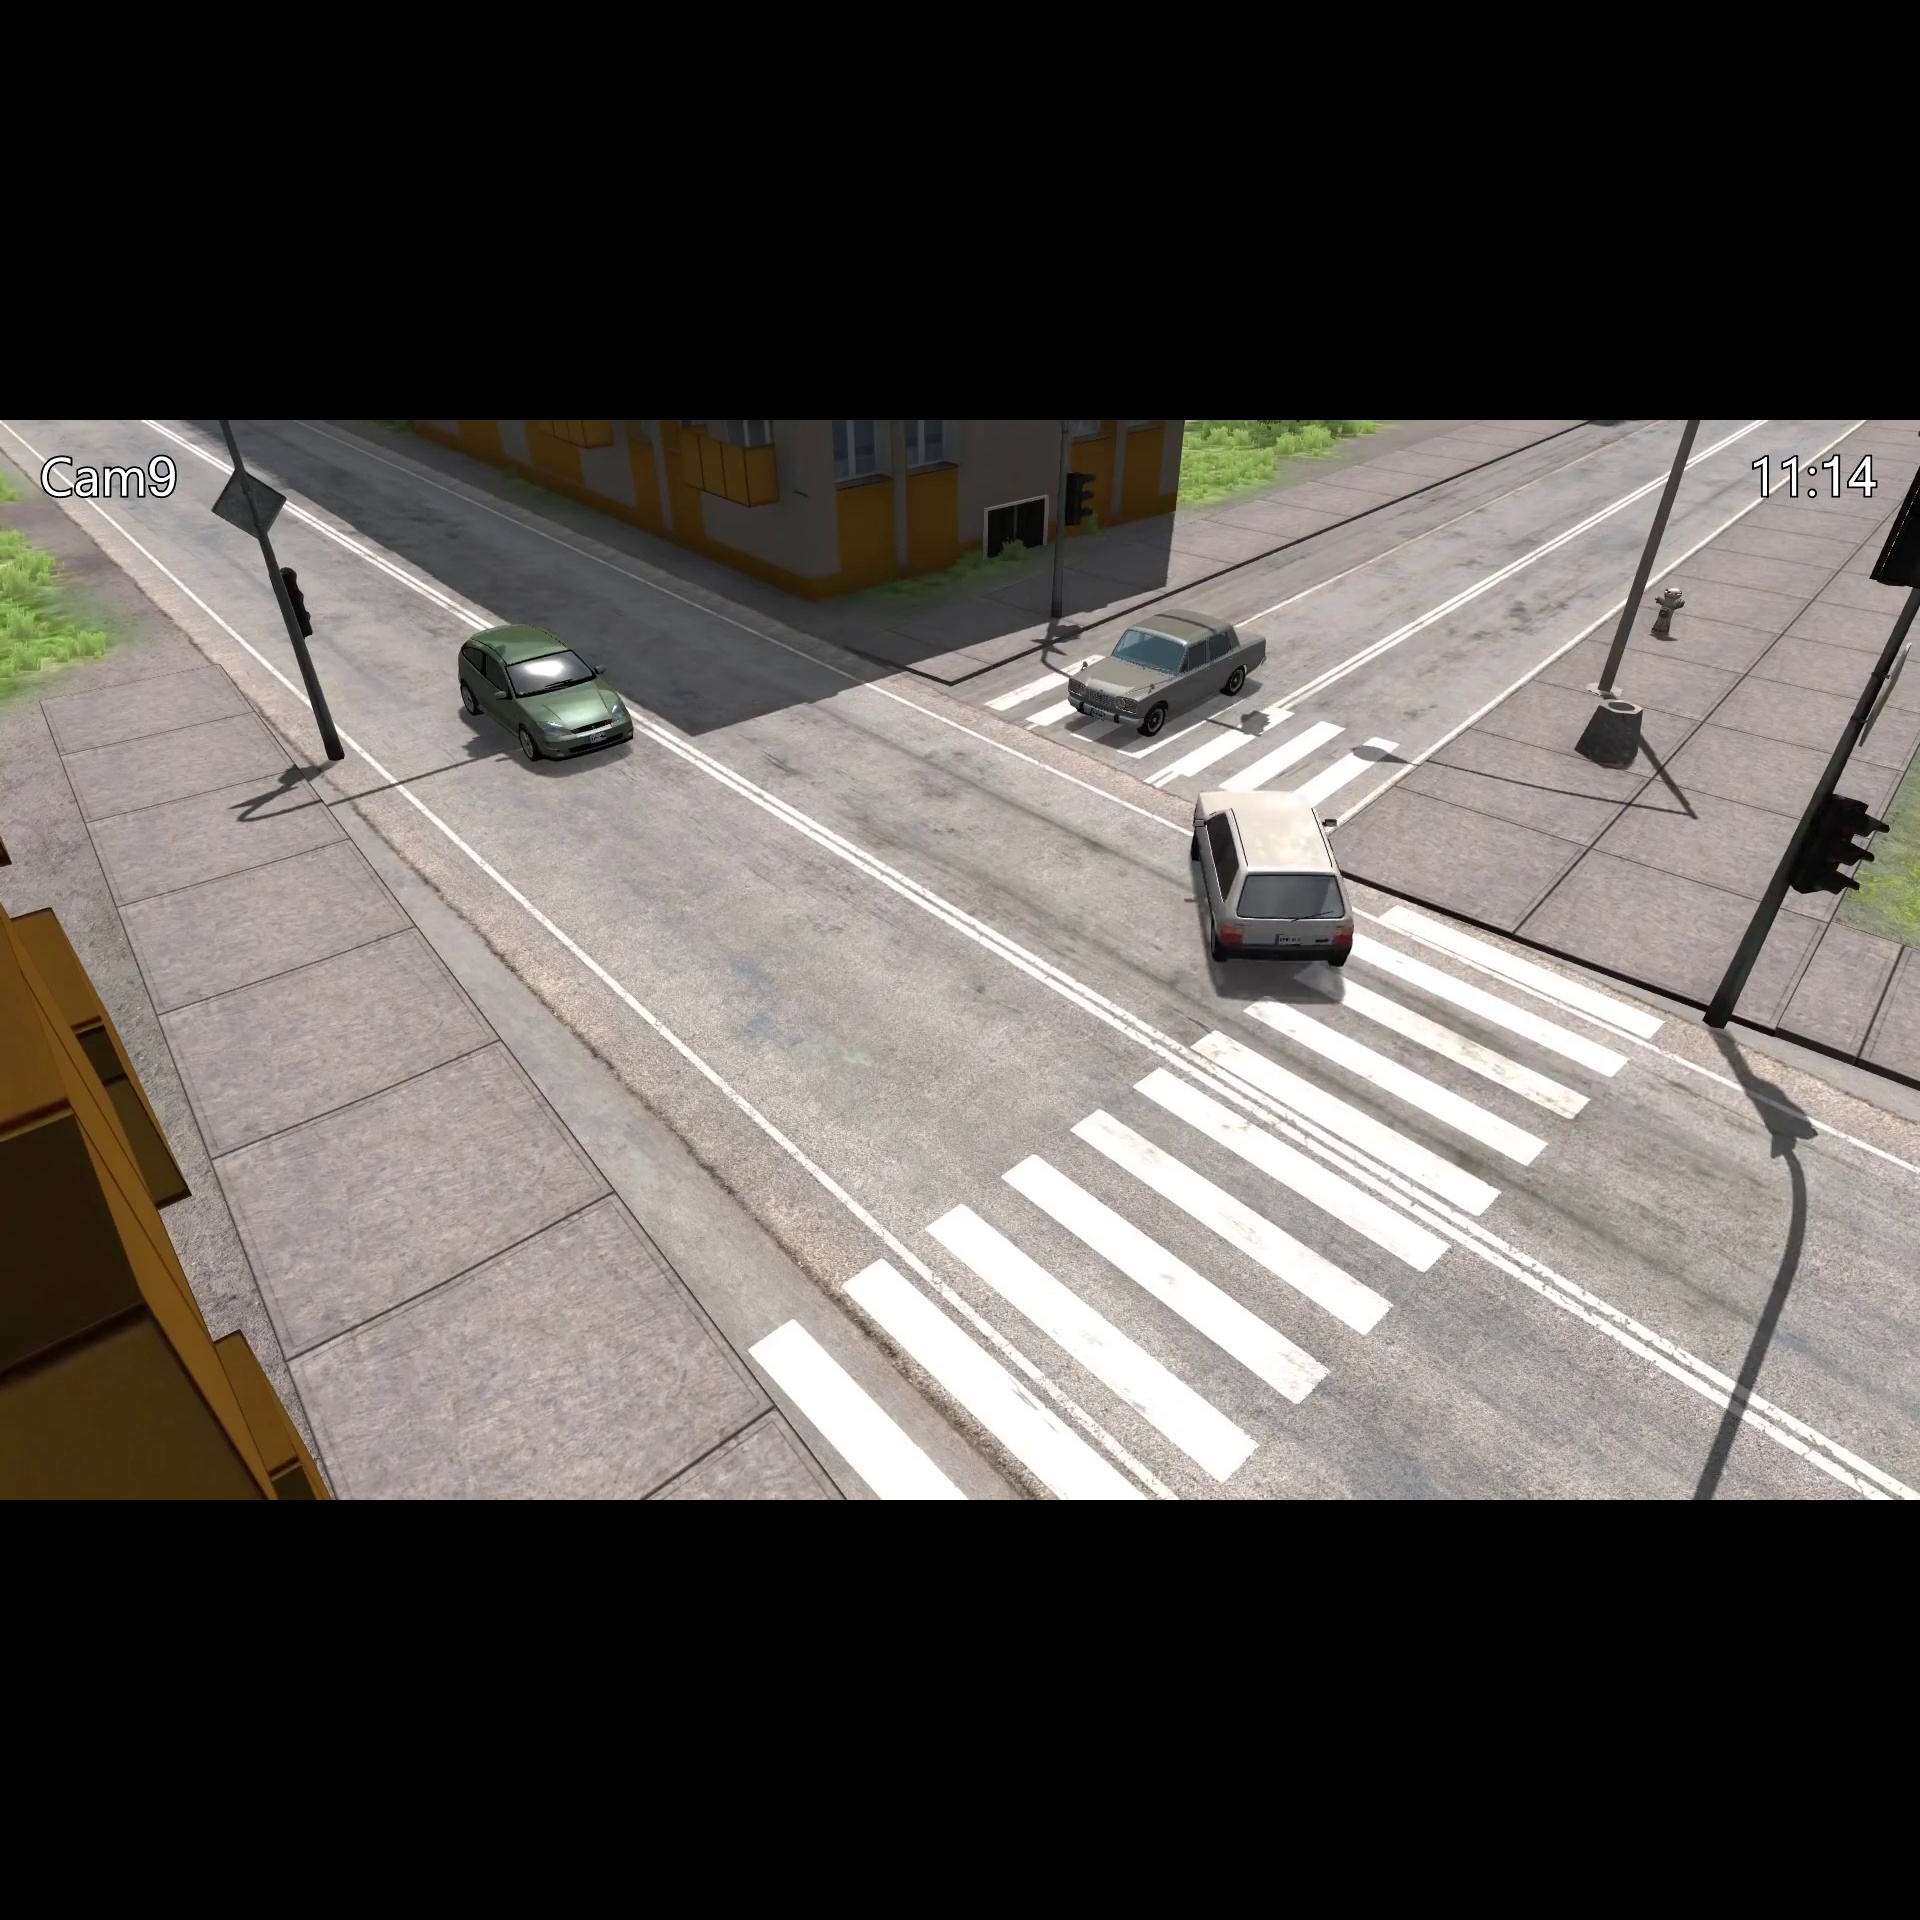vehicle: (1183, 782, 1366, 976), (448, 614, 635, 770), (1064, 605, 1271, 737)
